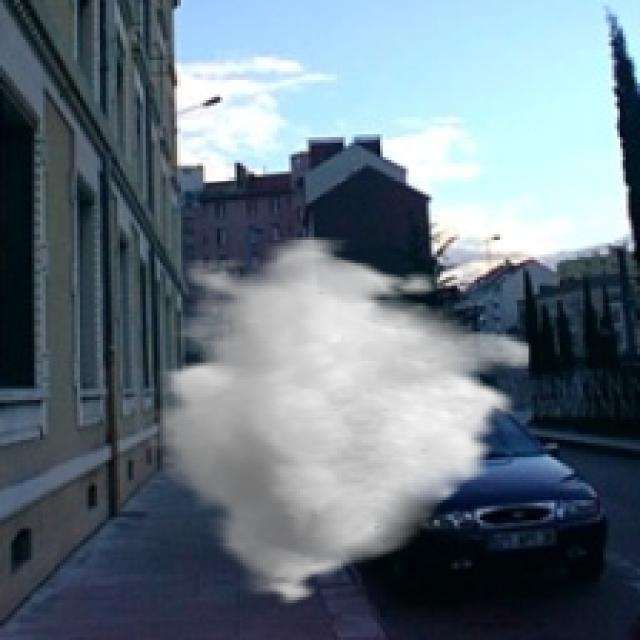smoke: (148, 237, 532, 612)
